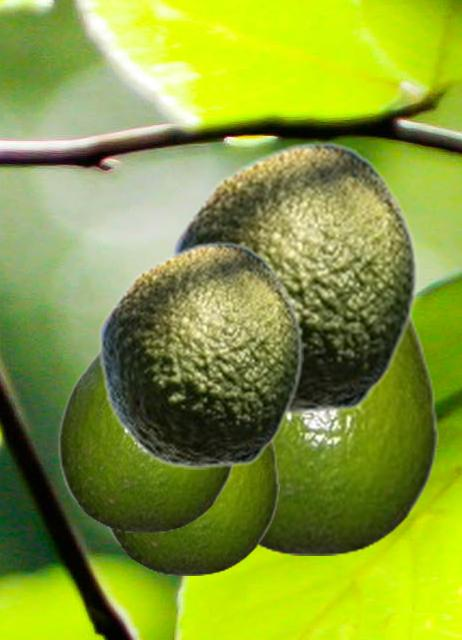avocado: (170, 141, 417, 414), (97, 241, 302, 468), (256, 312, 437, 554), (57, 349, 235, 531), (104, 439, 278, 574)
